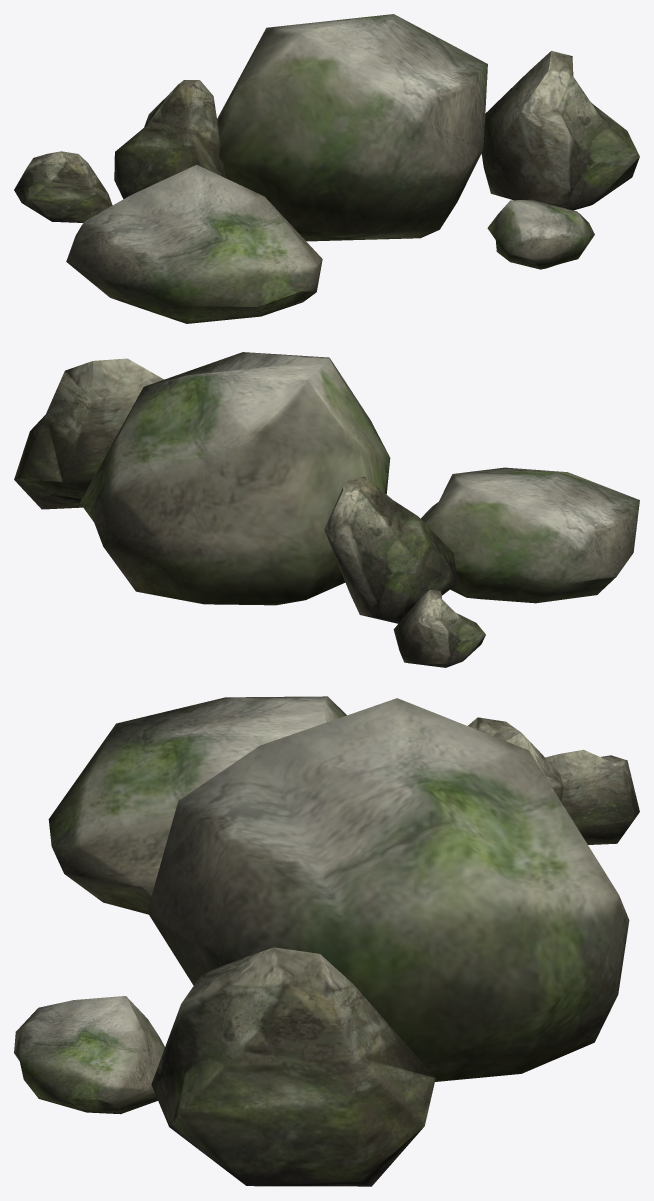
The model's file is rock_group_2_sphere.fbx.
3 views of the same model, one above another, from view 1: azimuth 30°, elevation 25°; view 2: azimuth 150°, elevation 25°; view 3: azimuth 270°, elevation 25° (orthographic). The views are drawn at different scales.
Parts seen in each view (by area): view 1: rock_2, rock_3, rock_4, rock_1, rock_6, rock_5; view 2: rock_2, rock_3, rock_1, rock_4, rock_5; view 3: rock_2, rock_4, rock_3, rock_6, rock_5, rock_1.
Boxes of the visible parts, box(x1,y1,x2,y2) form: rock_2: box(217, 14, 487, 241); rock_3: box(66, 164, 322, 323); rock_4: box(481, 51, 639, 210); rock_1: box(114, 80, 225, 198); rock_6: box(487, 199, 594, 269); rock_5: box(14, 151, 112, 222); rock_2: box(80, 352, 390, 605); rock_3: box(420, 467, 639, 603); rock_1: box(324, 476, 457, 623); rock_4: box(14, 358, 163, 509); rock_5: box(393, 590, 485, 667); rock_2: box(147, 698, 629, 1081); rock_4: box(151, 947, 435, 1186); rock_3: box(48, 696, 346, 914); rock_6: box(14, 996, 164, 1114); rock_5: box(545, 749, 639, 844); rock_1: box(468, 717, 563, 801).
Bounding box in the file's own units: 1387 × 499 × 887.
Materials: 1 (1 with a texture image).
